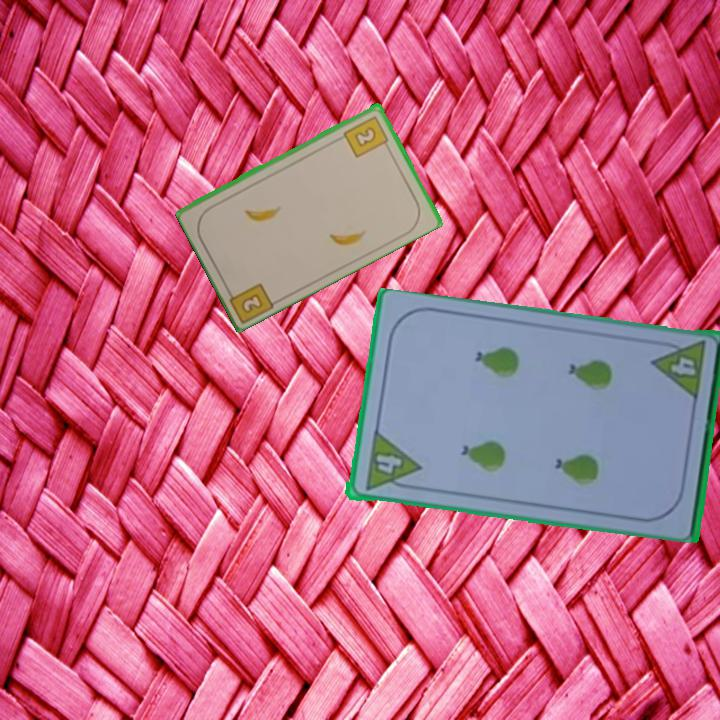2b: (340, 112, 392, 160), (223, 279, 278, 324)
4p: (360, 429, 422, 494), (647, 337, 708, 403)
